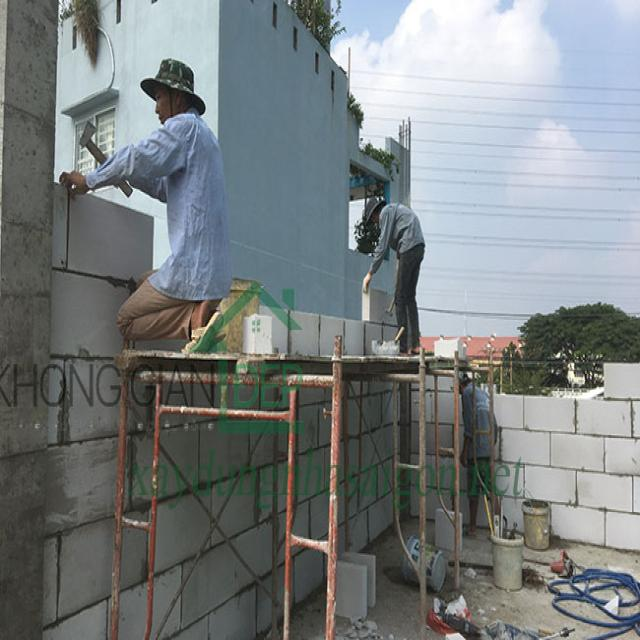gloves: (359, 268, 375, 295)
no_boots: (178, 289, 226, 360), (462, 514, 483, 543), (407, 335, 422, 363)
no_gloves: (57, 170, 94, 207), (456, 443, 472, 479)
no_hardhat: (140, 54, 208, 124), (358, 197, 386, 233), (455, 370, 475, 397)
no_vest: (82, 106, 230, 304), (366, 199, 427, 275), (459, 386, 502, 462)
person: (54, 51, 236, 360), (360, 198, 427, 359), (453, 368, 500, 538)
